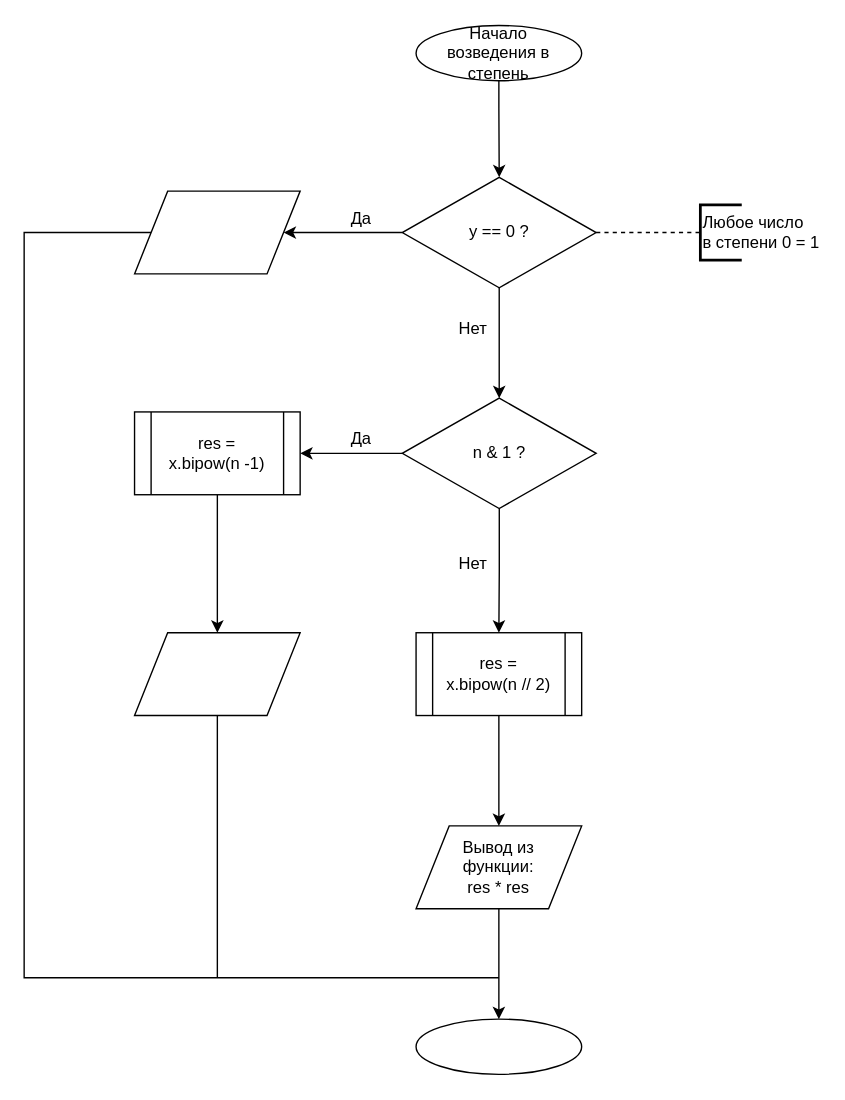
The diagram is 845 pixels wide and 1100 high, and some of its shapes have lost their labels. The shapes that lost their labels are listed below. From the top down, each one's centre as x and y in pixels, then its label:
At (216,232): "Вывод из функции: 1".
At (216,673): "Вывод из функции: res * x".
At (498,1046): "Конец возведения в степень".
